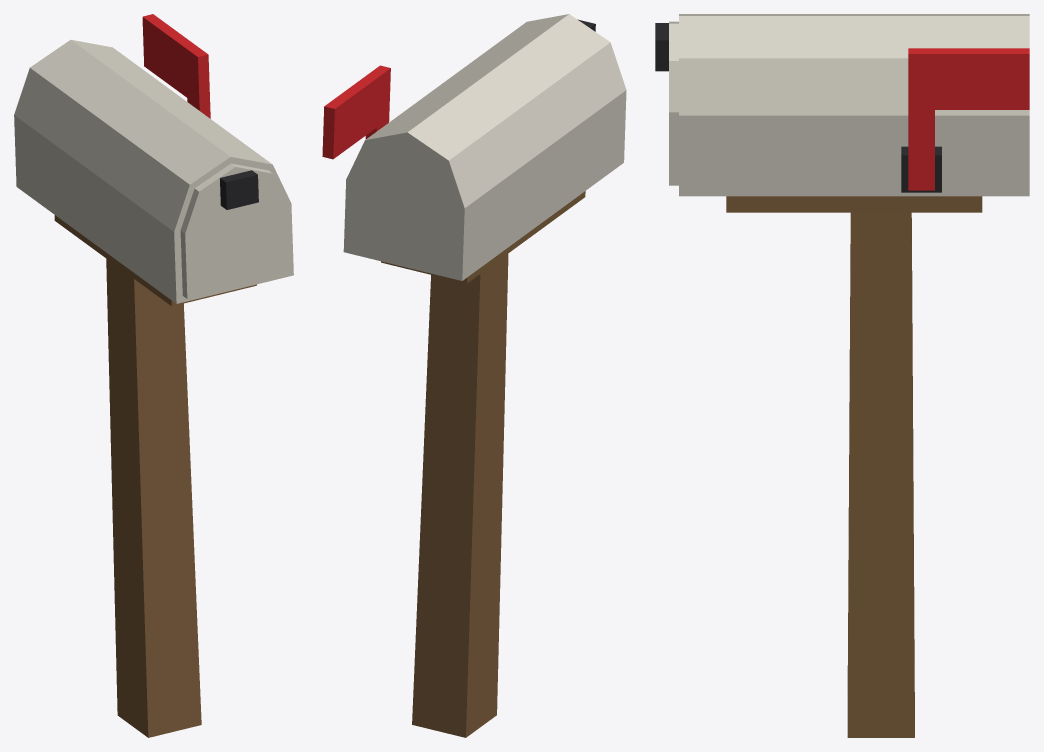
The model's file is mailbox.glb.
3 renders of one model, left to right at view 1: azimuth 30°, elevation 25°; view 2: azimuth 150°, elevation 25°; view 3: azimuth 270°, elevation 25°, orthographic. The views are drawn at different scales.
Parts seen in each view (by area): view 1: mailbox; view 2: mailbox; view 3: mailbox.
Boxes of the visible parts, bbox=[...] form: mailbox: bbox=[14, 14, 293, 737]; mailbox: bbox=[322, 14, 626, 737]; mailbox: bbox=[655, 14, 1029, 737].
Bounding box in the file's own units: 0.2685 × 1.15 × 0.555.
